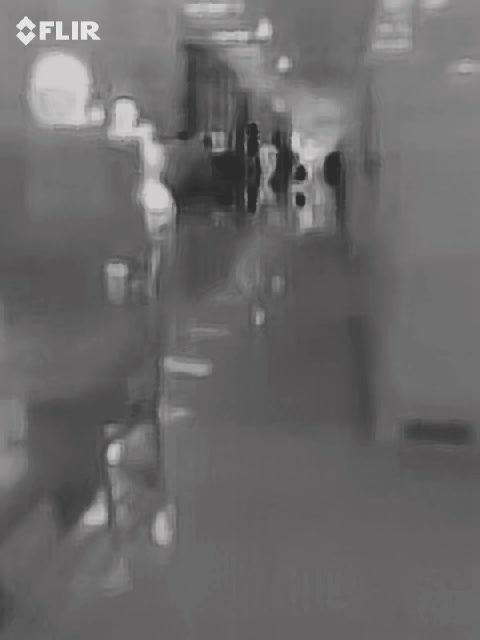head: (25, 48, 95, 130)
